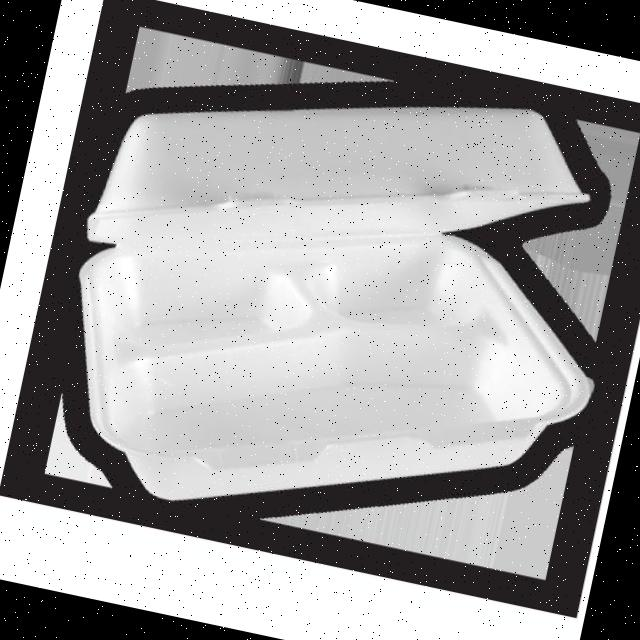styrofoam: (31, 21, 640, 581), (80, 20, 606, 340)
